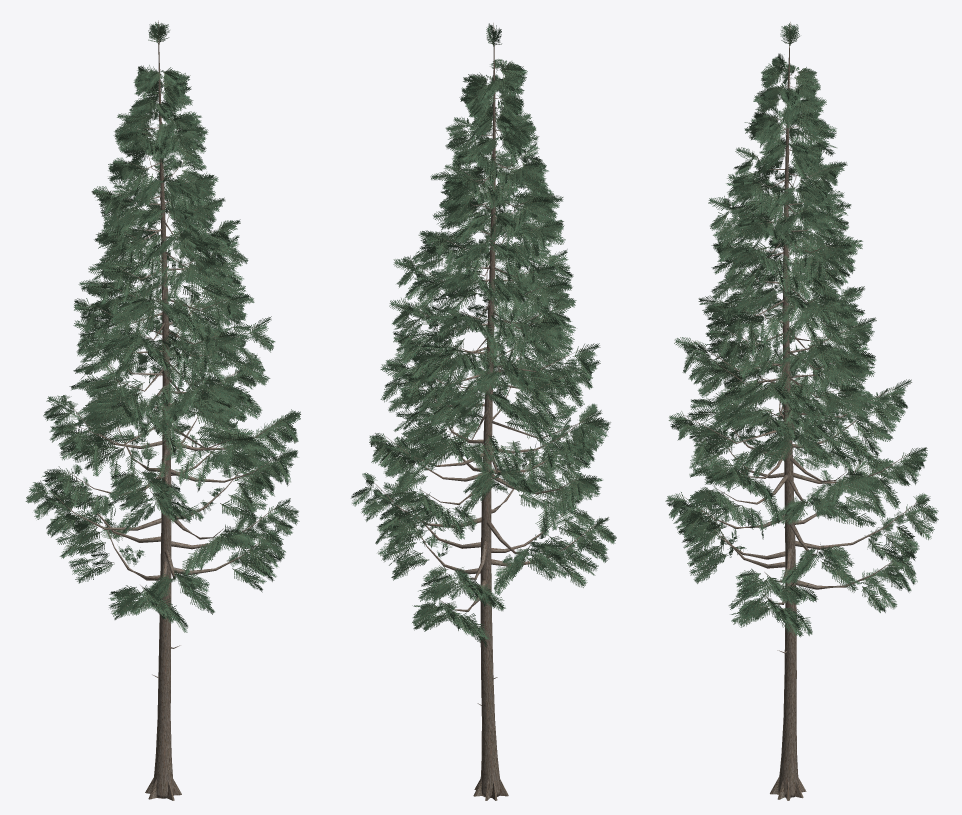
Rendered from SS_Defect_CoarseBranch_Young_01_LOD1.fbx.
3 renders of one model, left to right at view 1: azimuth 30°, elevation 25°; view 2: azimuth 150°, elevation 25°; view 3: azimuth 270°, elevation 25°, orthographic.
Parts seen in each view (by area): view 1: SS_Defect_CoarseBranch_Young_01_LOD1_Foliage, SS_Defect_CoarseBranch_Young_01_LOD1_Trunk, SS_Defect_CoarseBranch_Young_01_LOD1_Branches; view 2: SS_Defect_CoarseBranch_Young_01_LOD1_Foliage, SS_Defect_CoarseBranch_Young_01_LOD1_Trunk, SS_Defect_CoarseBranch_Young_01_LOD1_Branches; view 3: SS_Defect_CoarseBranch_Young_01_LOD1_Foliage, SS_Defect_CoarseBranch_Young_01_LOD1_Trunk, SS_Defect_CoarseBranch_Young_01_LOD1_Branches.
Part boxes in pixels (<box>): SS_Defect_CoarseBranch_Young_01_LOD1_Foliage: <box>25,22,300,632</box>; SS_Defect_CoarseBranch_Young_01_LOD1_Trunk: <box>145,20,181,800</box>; SS_Defect_CoarseBranch_Young_01_LOD1_Branches: <box>46,68,283,677</box>; SS_Defect_CoarseBranch_Young_01_LOD1_Foliage: <box>351,23,616,647</box>; SS_Defect_CoarseBranch_Young_01_LOD1_Trunk: <box>473,23,508,800</box>; SS_Defect_CoarseBranch_Young_01_LOD1_Branches: <box>373,63,595,705</box>; SS_Defect_CoarseBranch_Young_01_LOD1_Foliage: <box>665,23,938,637</box>; SS_Defect_CoarseBranch_Young_01_LOD1_Trunk: <box>770,22,806,800</box>; SS_Defect_CoarseBranch_Young_01_LOD1_Branches: <box>683,65,917,708</box>.
Size of the model in its own units: 384 by 1150 by 398.
